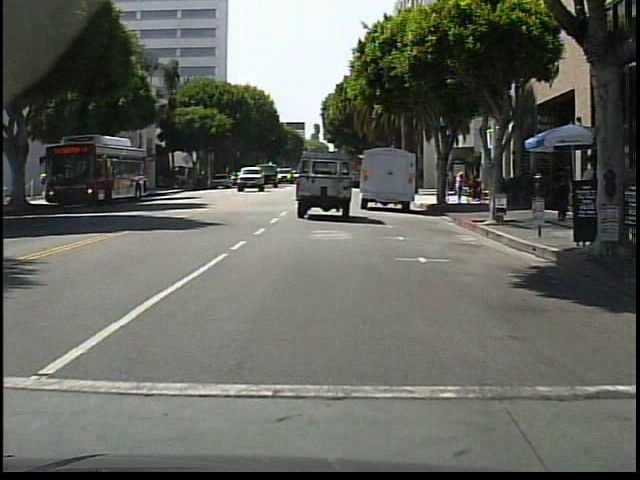person: (576, 150, 605, 242), (553, 168, 571, 222), (453, 170, 465, 205), (443, 166, 453, 203), (40, 170, 50, 198)
